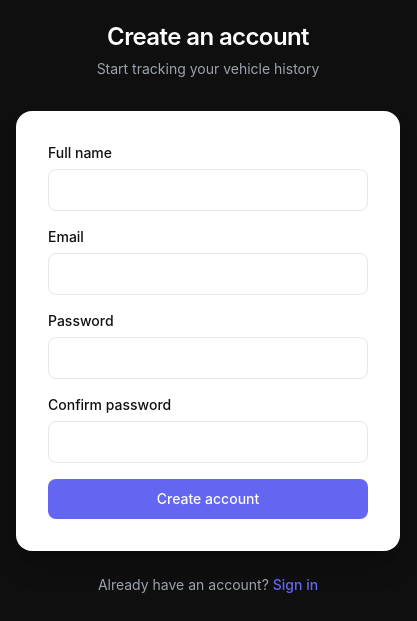
it: RegisterPage › shows password validation error
Type "Test User" into the field labelled "Full name" at (208, 190), box [48,169,368,211]
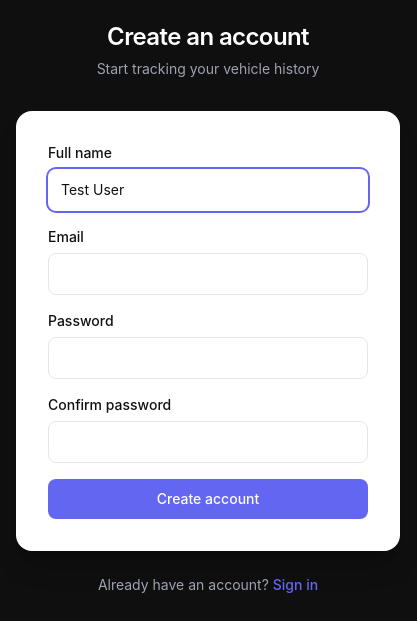
Type "user@test.com" into the field labelled "Email" at (208, 274), box [48,253,368,295]
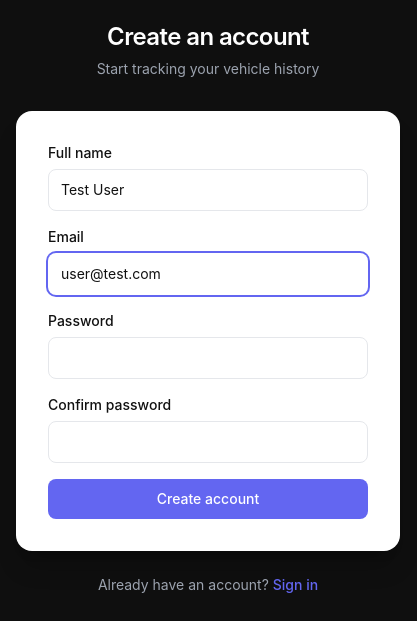
Type "short" into the password field labelled "Password" at (208, 358), box [48,337,368,379]
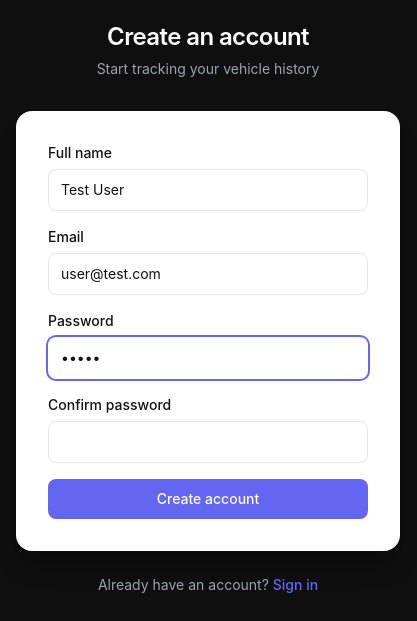
Type "short" into the password field labelled "Confirm password" at (208, 442), box [48,421,368,463]
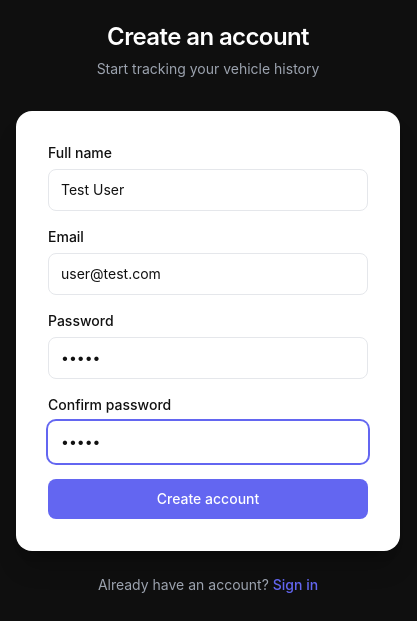
Click the button "Create account" at (208, 499), box [48,479,368,519]
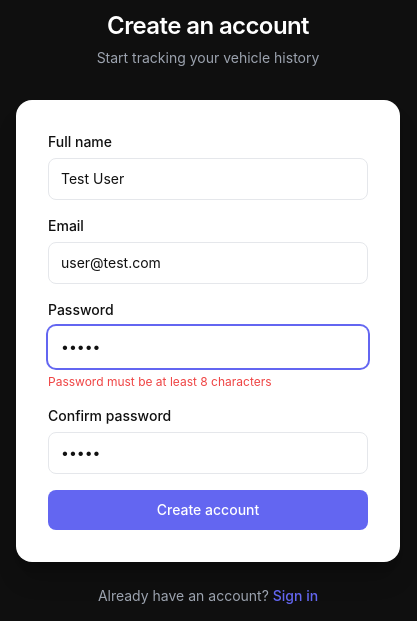
Expected: the text "Password must be at least 8 characters" is shown, [48,374,272,389]
